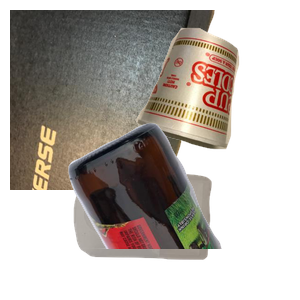cardboard: (10, 10, 217, 190)
glass: (66, 120, 300, 300)
plastic: (71, 169, 275, 300)
trash: (133, 25, 300, 167)
